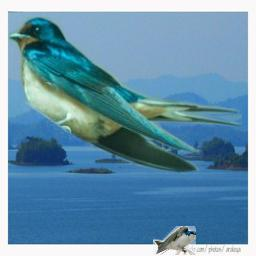Swallow: (9, 15, 242, 174), (153, 226, 196, 255)
